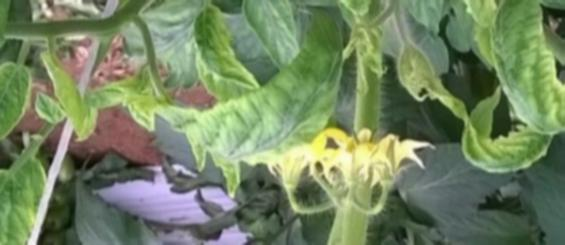Tomato leaf yellow virus: (185, 13, 347, 163), (482, 0, 565, 138)
